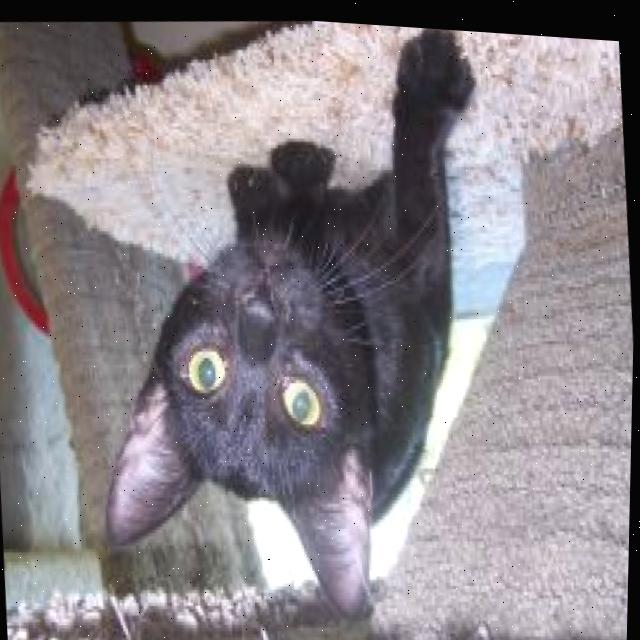Bombay: (68, 4, 513, 640)
